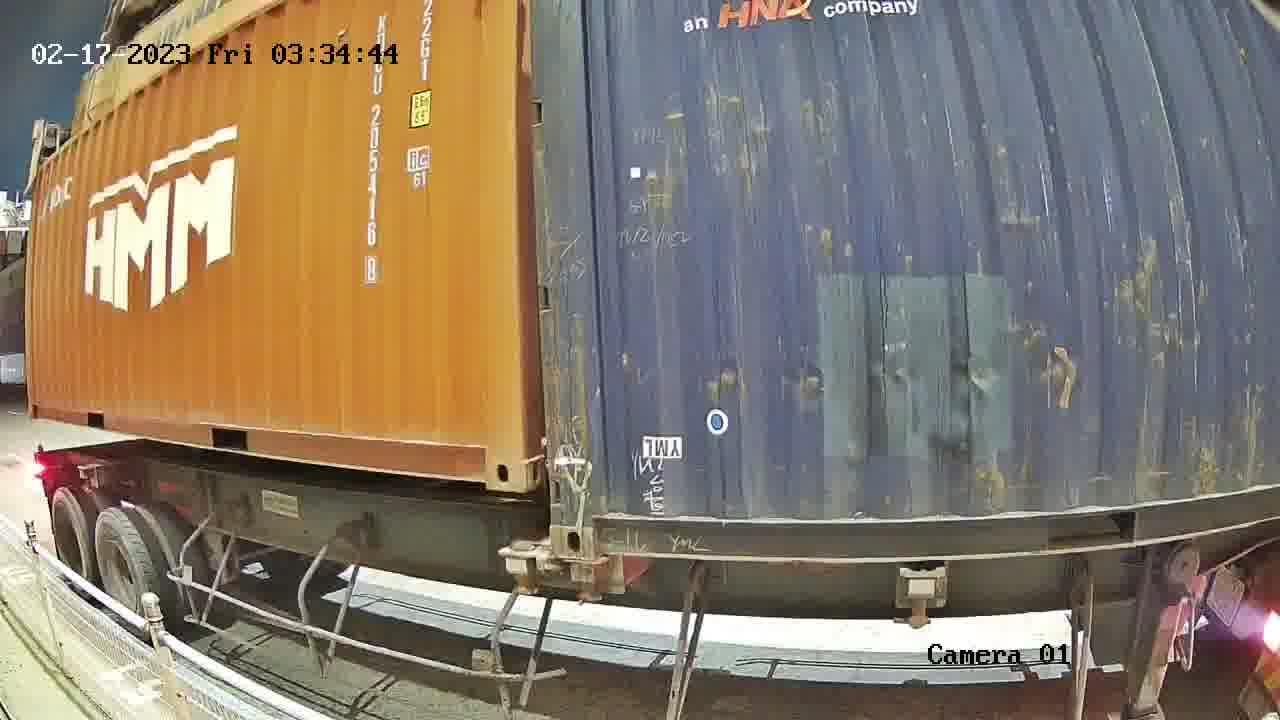Cone: (562, 559, 614, 606), (500, 540, 543, 595)
Hole_L: (551, 487, 631, 558)
Hole_R: (449, 426, 525, 493)
Tire: (96, 511, 151, 628), (50, 491, 95, 592)
